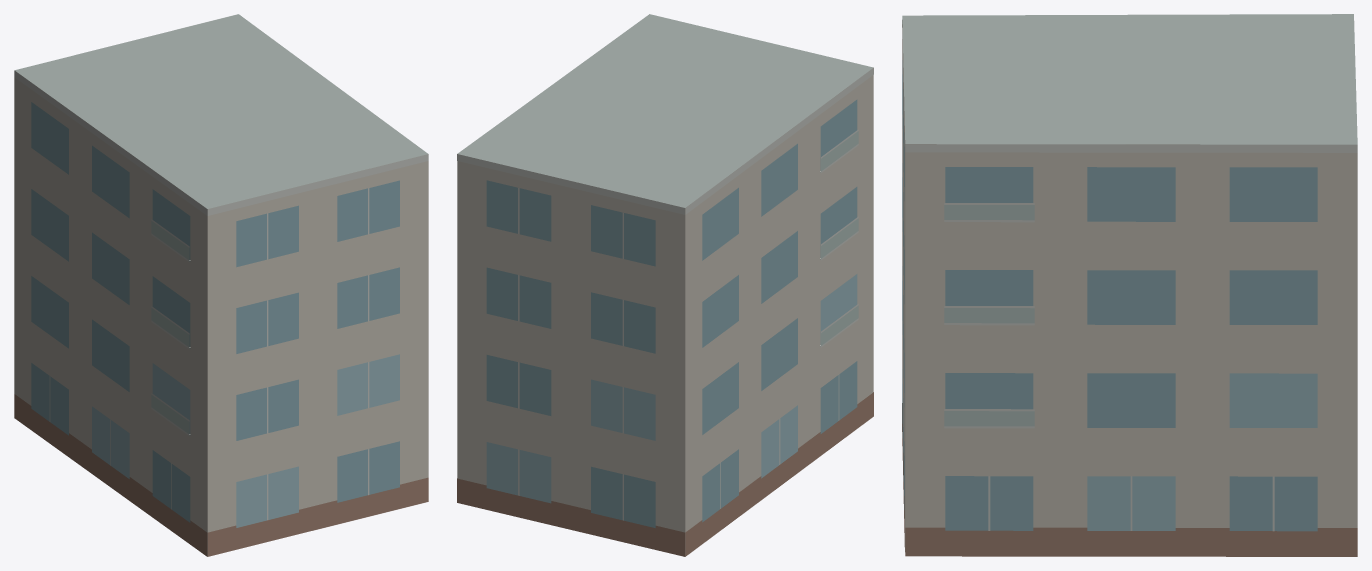
Rendered from survey-upis-32779960.glb.
The picture shows the model from 3 angles, left to right: view 1: azimuth 30°, elevation 25°; view 2: azimuth 150°, elevation 25°; view 3: azimuth 270°, elevation 25°; orthographic projection. The views are drawn at different scales.
Parts seen in each view (by area): view 1: survey-upis-32779960.tmp; view 2: survey-upis-32779960.tmp; view 3: survey-upis-32779960.tmp.
Part boxes in pixels (x1,y1,x2,y2): survey-upis-32779960.tmp: (14, 14, 428, 556); survey-upis-32779960.tmp: (457, 14, 873, 556); survey-upis-32779960.tmp: (902, 14, 1357, 556).
Bounding box in the file's own units: 8.31 × 12.2 × 12.23.
